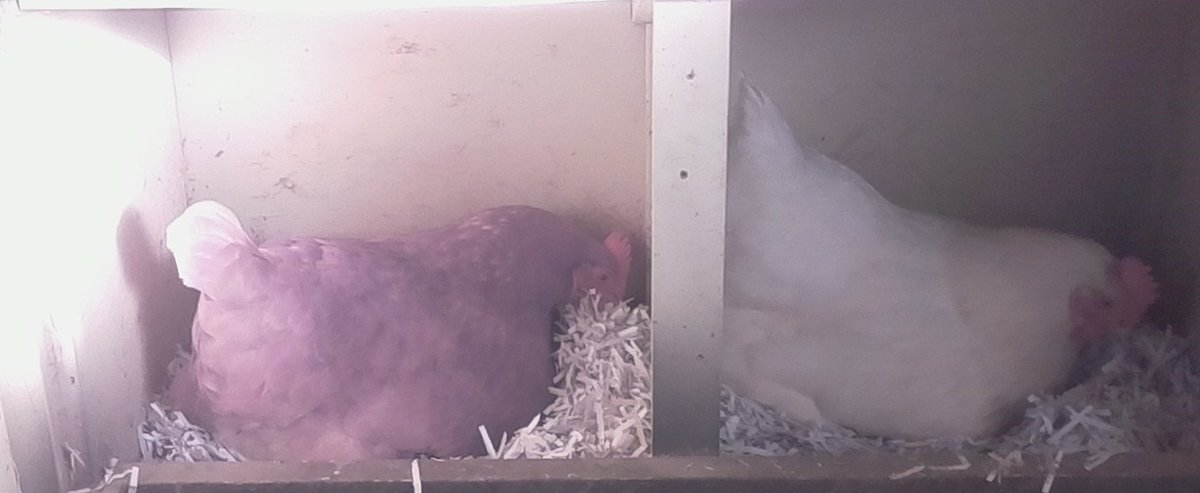hen: (733, 66, 1163, 451), (165, 192, 640, 457)
